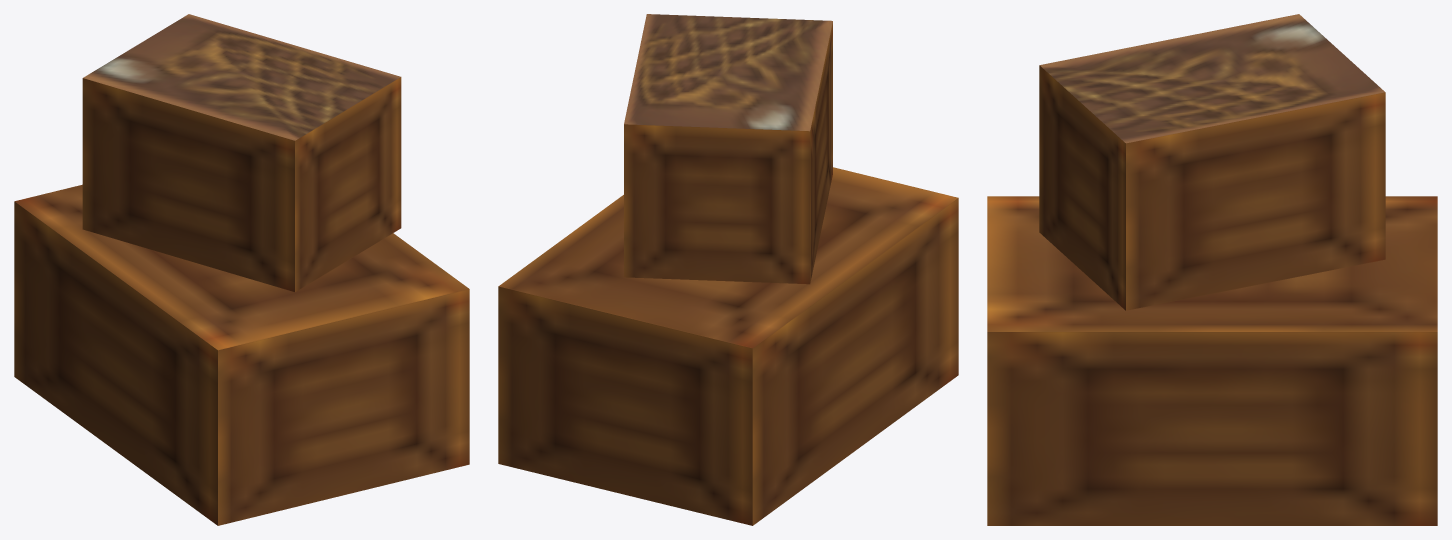
Rendered from EnvObj_Box.FBX.
3 renders of one model, left to right at view 1: azimuth 30°, elevation 25°; view 2: azimuth 150°, elevation 25°; view 3: azimuth 270°, elevation 25°, orthographic. The views are drawn at different scales.
Visible parts, largest first — view 1: EnvObj_Box; view 2: EnvObj_Box; view 3: EnvObj_Box.
Boxes of the visible parts, x1,y1,x2,y2 form: EnvObj_Box: (14,14,469,525); EnvObj_Box: (498,14,958,525); EnvObj_Box: (987,14,1437,525).
Size of the model in its own units: 1.52 by 1.98 by 2.13.
